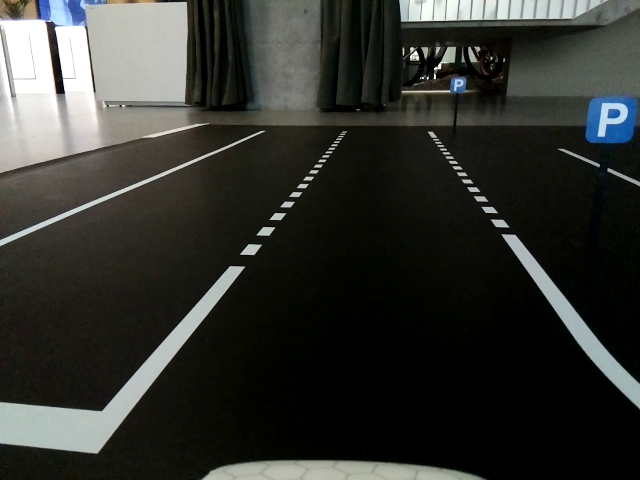park: (588, 99, 631, 143), (451, 78, 467, 92)
